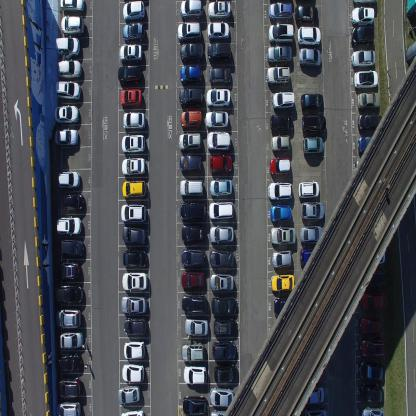car: (359, 290, 387, 312), (358, 359, 385, 381), (359, 336, 386, 358), (54, 260, 81, 282), (54, 284, 83, 304), (205, 86, 231, 108), (352, 68, 378, 90), (121, 224, 147, 246), (54, 36, 80, 58), (56, 352, 82, 374), (182, 292, 207, 314), (357, 134, 382, 156), (54, 103, 79, 125), (357, 112, 383, 133), (209, 386, 235, 407), (120, 202, 146, 223), (181, 394, 207, 415), (55, 80, 81, 101), (55, 308, 81, 329), (207, 130, 231, 152), (179, 86, 203, 108), (300, 245, 324, 267), (350, 25, 374, 47), (298, 46, 322, 68), (179, 64, 203, 86), (207, 41, 231, 63), (181, 341, 205, 363), (60, 14, 84, 36), (181, 200, 206, 221), (184, 316, 209, 337), (300, 113, 325, 134), (359, 382, 384, 403), (267, 1, 292, 22), (268, 23, 293, 44), (121, 294, 146, 315), (208, 200, 234, 220), (211, 294, 237, 314), (209, 248, 235, 268), (360, 268, 386, 288), (266, 44, 292, 64), (176, 21, 202, 41), (56, 60, 82, 80), (56, 216, 82, 236), (55, 376, 81, 396), (209, 153, 232, 175), (295, 3, 318, 25), (122, 0, 145, 22), (182, 221, 206, 242), (300, 200, 324, 221), (266, 65, 290, 86), (118, 64, 142, 85), (182, 364, 206, 385), (181, 247, 206, 267), (209, 272, 234, 292), (273, 296, 298, 316), (121, 111, 146, 131), (121, 179, 146, 199), (213, 362, 238, 382), (179, 178, 204, 198), (122, 271, 148, 290), (122, 249, 148, 268), (267, 181, 293, 200), (270, 226, 296, 245), (268, 156, 290, 178), (123, 338, 145, 360), (179, 131, 202, 152), (300, 92, 323, 113), (297, 25, 320, 46), (122, 22, 145, 43), (119, 87, 142, 108), (210, 223, 234, 243), (179, 154, 203, 174), (269, 113, 293, 133), (270, 272, 294, 292), (180, 42, 204, 62), (179, 0, 203, 20), (119, 43, 143, 63), (121, 134, 145, 154), (121, 156, 145, 176), (212, 340, 236, 360), (54, 127, 78, 147), (181, 270, 206, 289), (59, 331, 84, 350), (180, 108, 202, 129), (207, 20, 229, 41), (209, 178, 232, 198), (357, 90, 380, 110), (121, 362, 144, 382), (117, 385, 140, 405), (62, 192, 85, 212), (213, 317, 237, 336), (299, 224, 323, 243), (361, 244, 385, 263), (350, 5, 374, 24), (123, 317, 147, 336), (60, 238, 84, 257), (298, 179, 320, 199), (302, 384, 324, 404), (208, 0, 230, 20), (208, 65, 231, 84), (351, 48, 375, 66), (56, 170, 80, 188), (302, 136, 323, 156), (360, 316, 382, 335), (272, 91, 294, 110), (55, 400, 81, 416), (205, 110, 228, 128), (269, 204, 292, 222), (270, 134, 290, 154), (272, 250, 292, 269), (59, 0, 85, 14), (362, 405, 384, 415), (304, 407, 327, 415), (351, 0, 377, 7), (120, 408, 145, 415), (210, 408, 234, 415)
